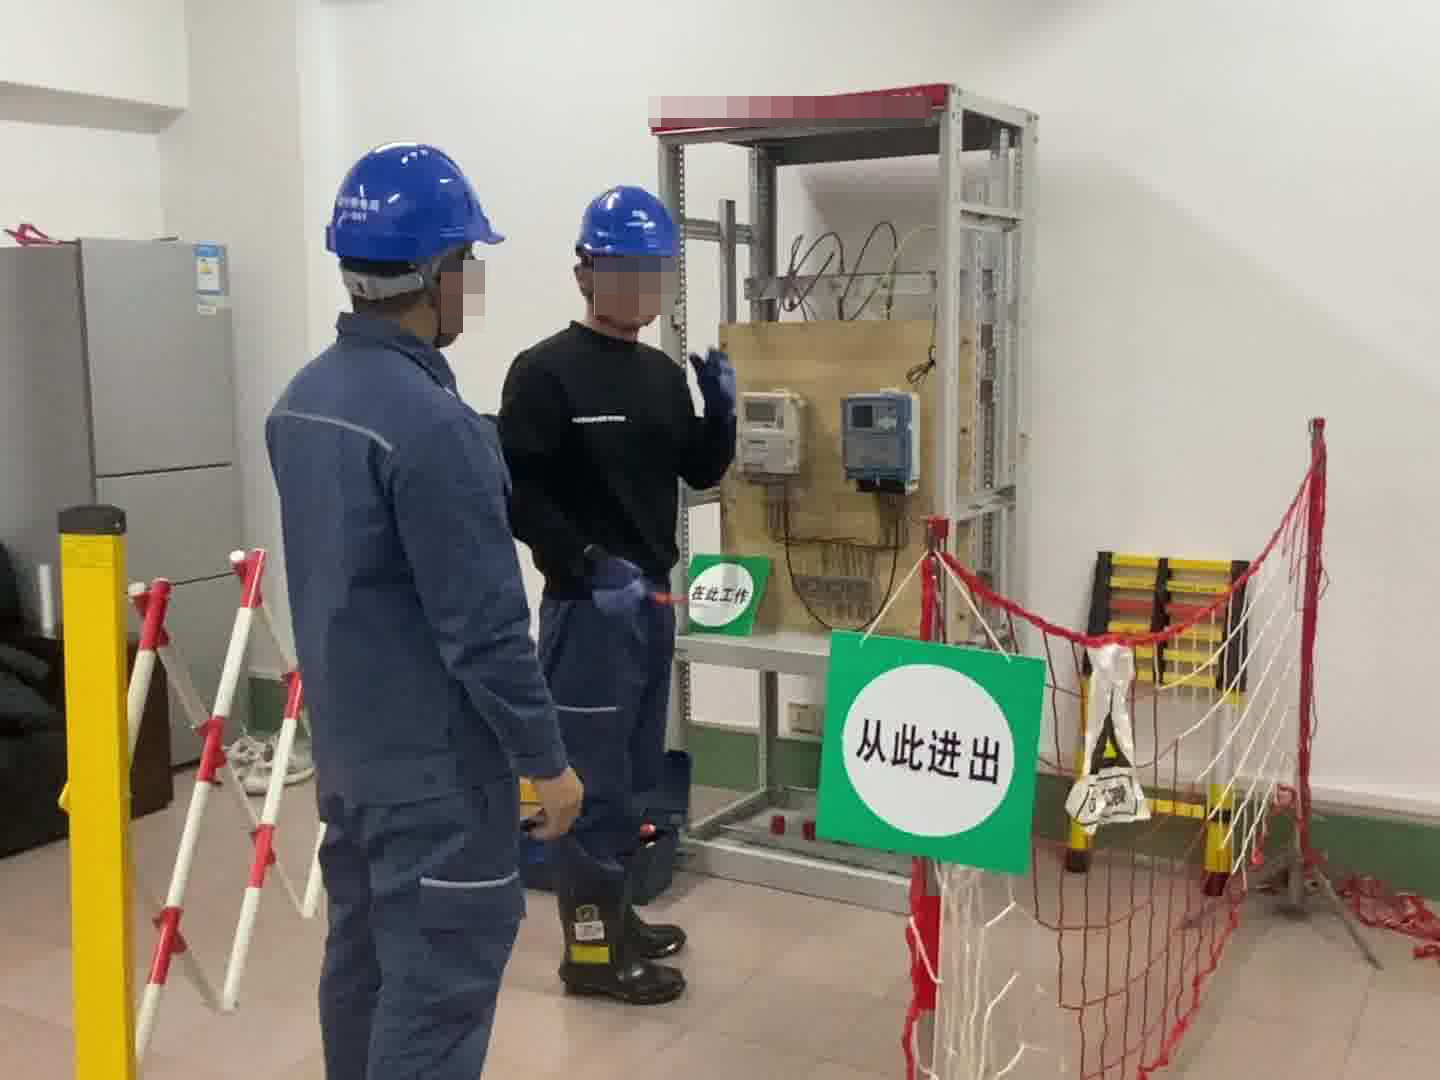downsuit: (308, 809, 534, 1080)
glove: (587, 547, 645, 618), (690, 347, 737, 420)
halt: (319, 141, 513, 344), (568, 182, 686, 337)
hand: (527, 768, 580, 855)
inear: (423, 256, 472, 324), (568, 251, 604, 303)
intosign: (810, 623, 1040, 883)
person: (255, 132, 597, 1080), (506, 176, 740, 1002)
shoe: (545, 865, 690, 1000), (583, 857, 690, 955)
upcloth: (508, 337, 726, 584)
upsuit: (257, 327, 569, 785)
worksign: (670, 547, 767, 640)
